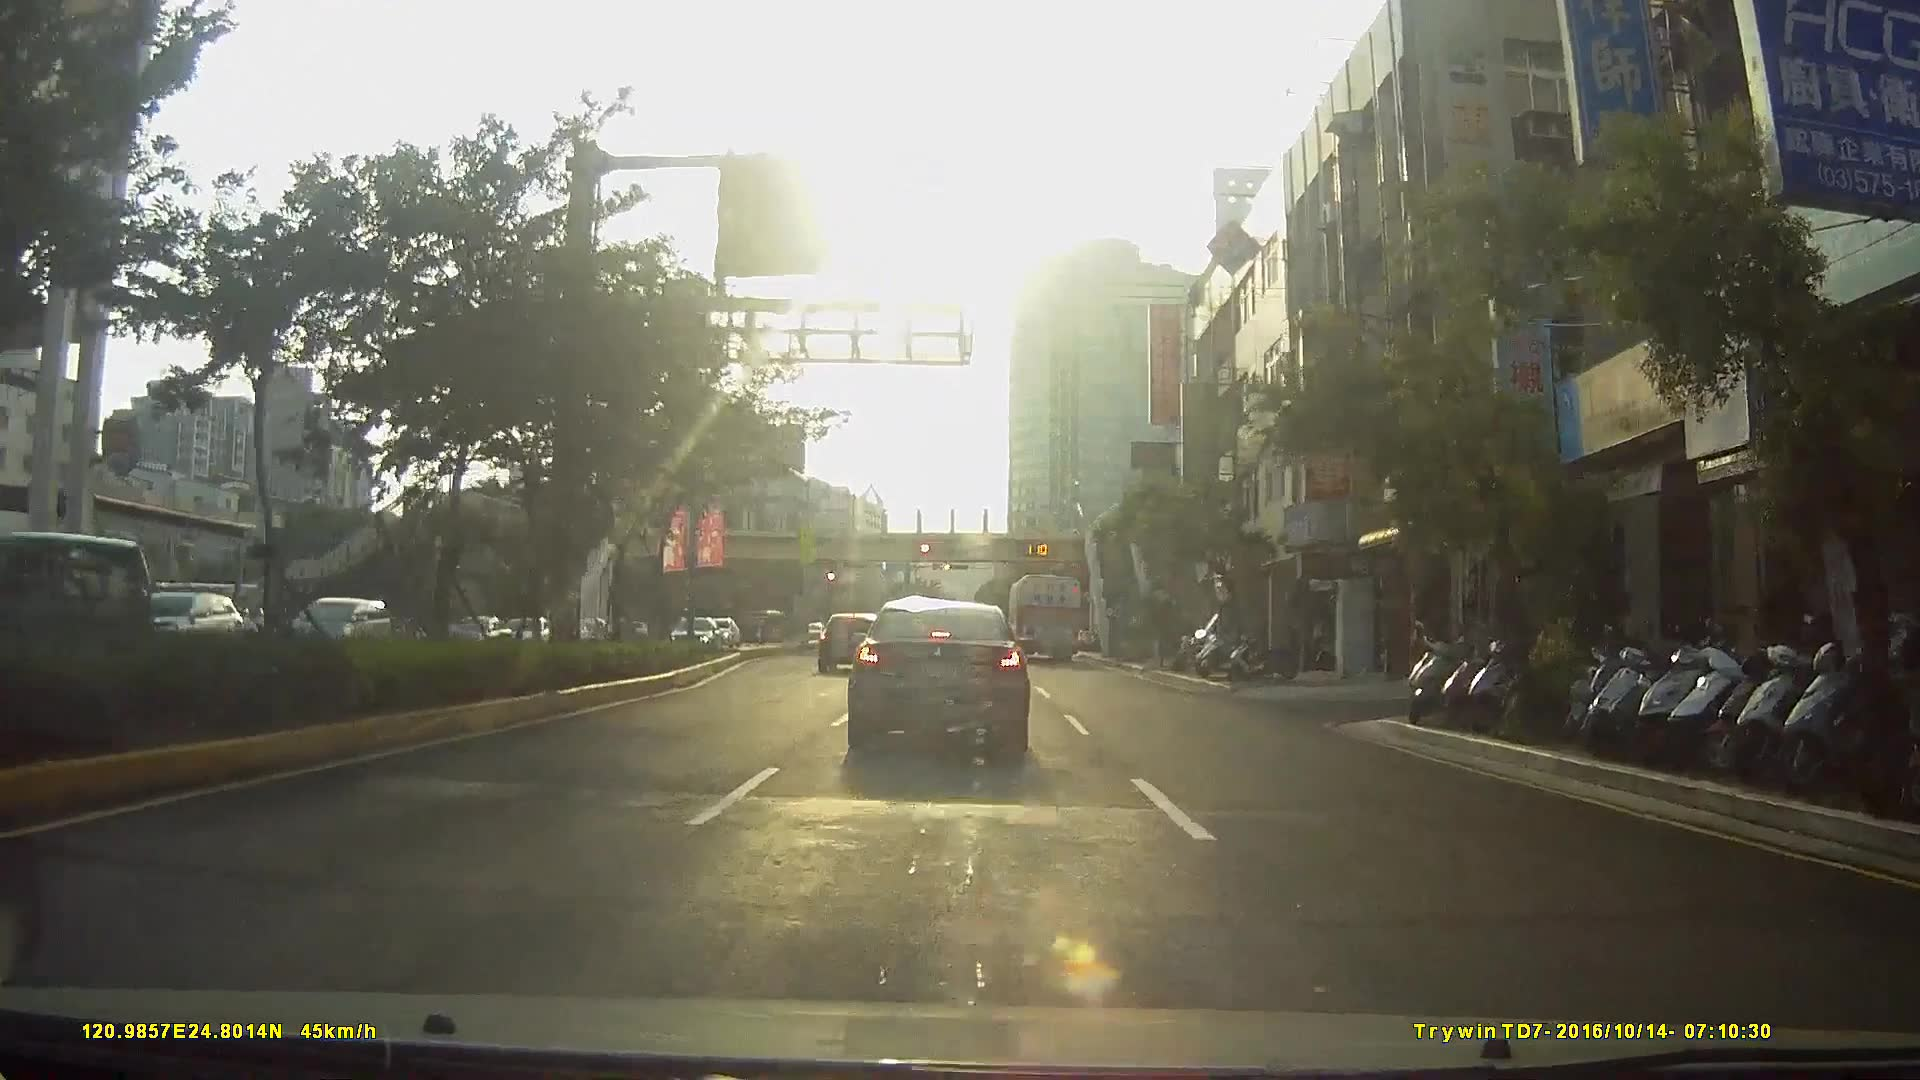vehicle: (844, 593, 1030, 757), (1, 526, 145, 684), (1005, 568, 1084, 663), (280, 593, 388, 655), (816, 607, 885, 675), (661, 611, 721, 653)
